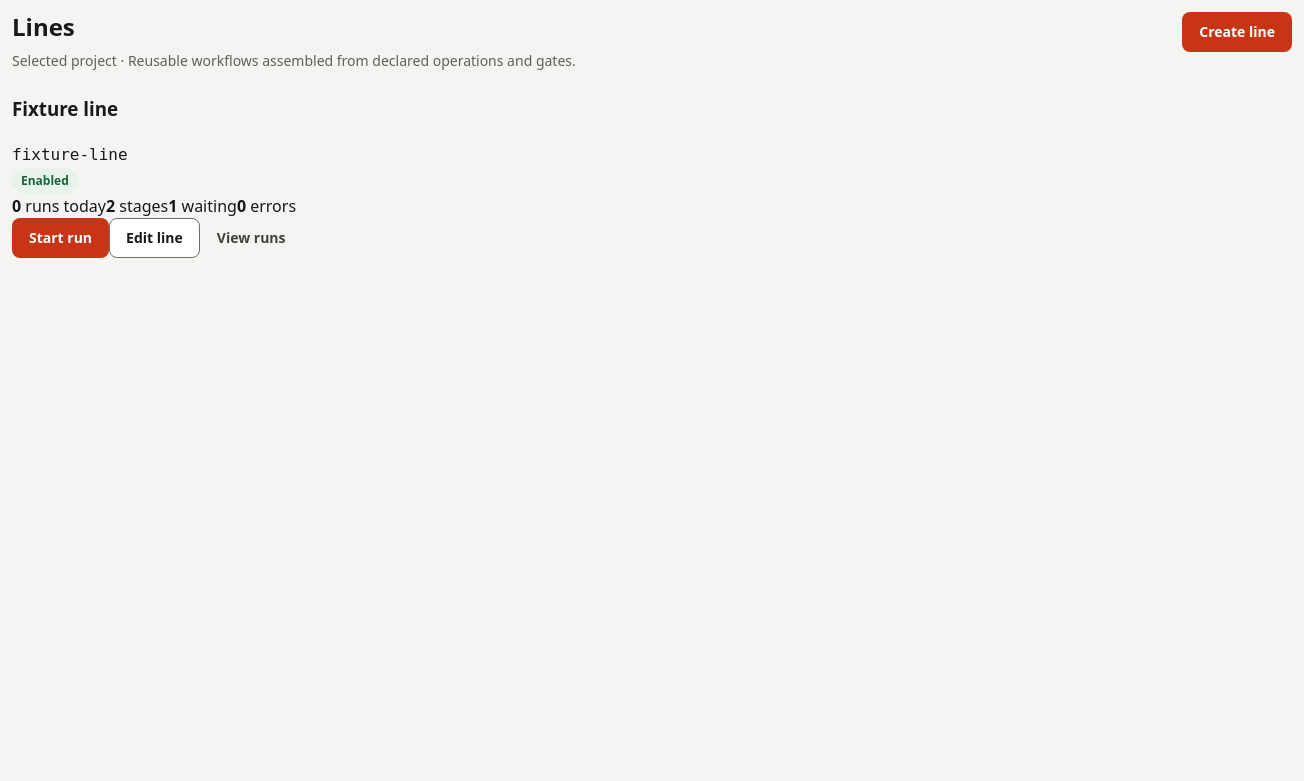
Test case: Production control center › shows generic line health and opens the schema guided line editor
What coordinates should you click on to do the following:
click the button "Edit line"
I would click on:
 (154, 238)
Its box is [109,218,200,258].
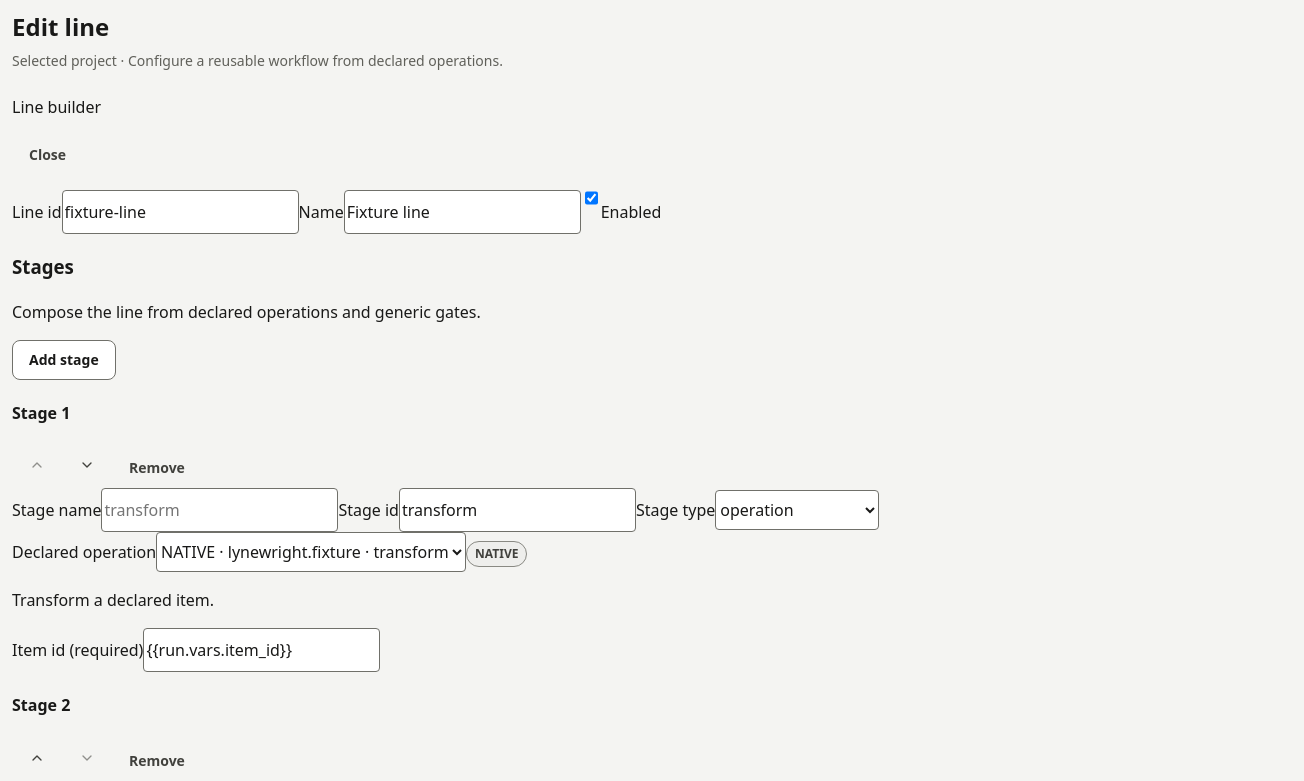
Expected: the text "Line builder" is shown, [12,96,101,118]
Expected: the text "Transform a declared item." is shown, [12,589,214,611]
Expected: the field labelled "Item id (required)" is shown, [143,628,380,672]
